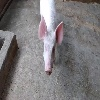heo: (36, 13, 67, 77)
